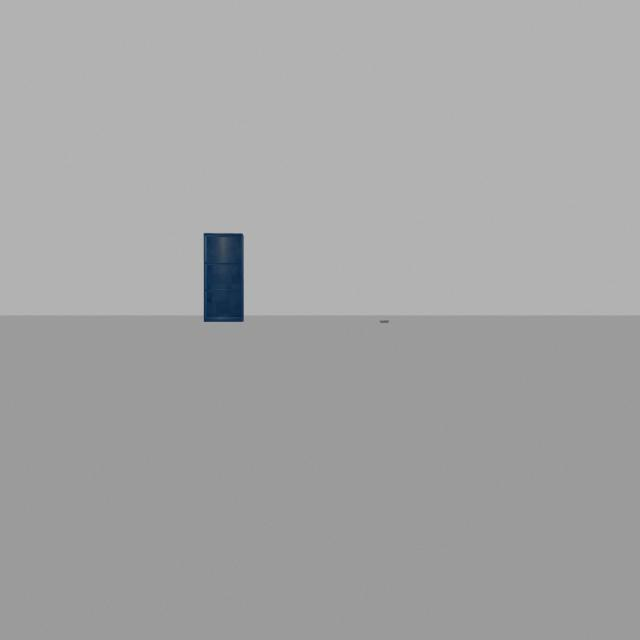bowl: (372, 309, 397, 336)
shelf: (200, 217, 253, 337)
